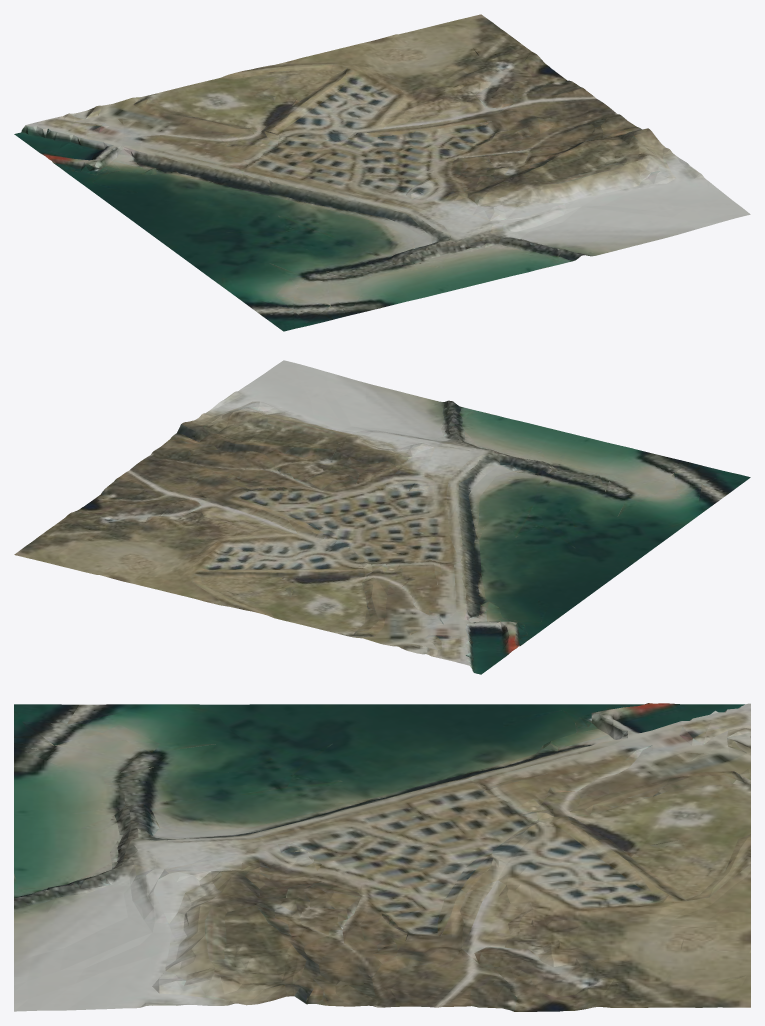
3 renders of one model, top to bottom at view 1: azimuth 30°, elevation 25°; view 2: azimuth 150°, elevation 25°; view 3: azimuth 270°, elevation 25°, orthographic. The views are drawn at different scales.
Size of the model in its own units: 418 by 12.68 by 418.
Materials: 3 (3 with a texture image).
